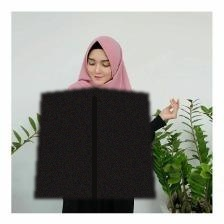Cadar_Niqab: (33, 32, 156, 198)
